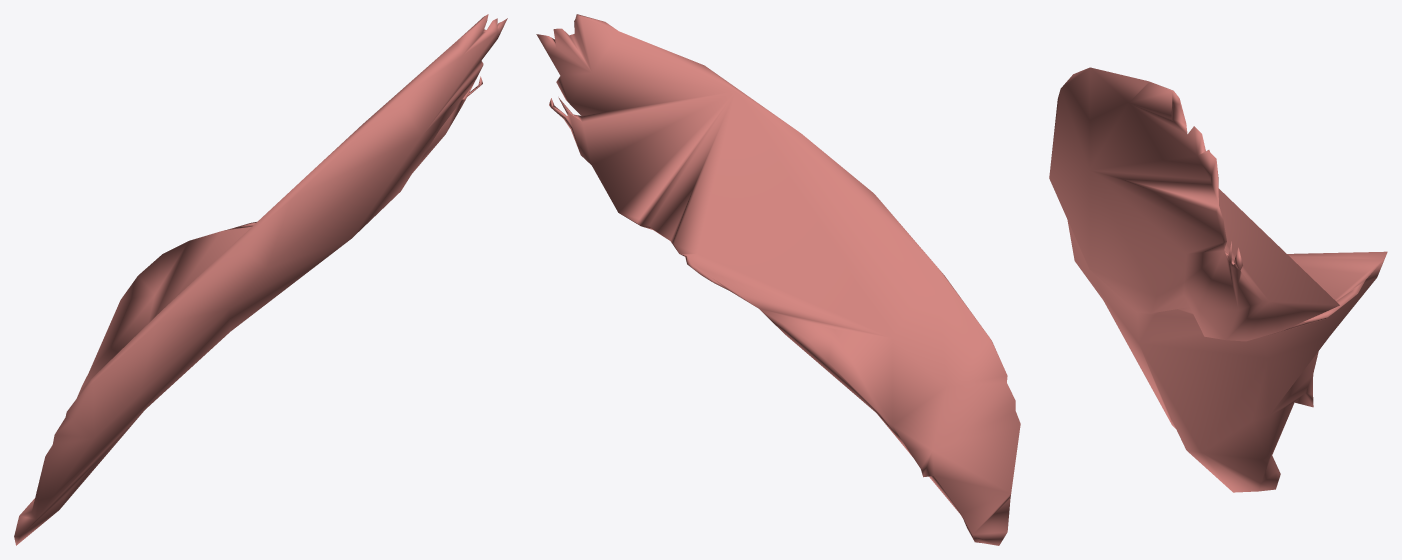
3 views of the same model, side by side, from view 1: azimuth 30°, elevation 25°; view 2: azimuth 150°, elevation 25°; view 3: azimuth 270°, elevation 25° (orthographic). The views are drawn at different scales.
Visible parts, largest first — view 1: ZA_0da69982c4911531; view 2: ZA_0da69982c4911531; view 3: ZA_0da69982c4911531.
Boxes of the visible parts, x1,y1,x2,y2 form: ZA_0da69982c4911531: (14,14,507,545); ZA_0da69982c4911531: (536,14,1020,545); ZA_0da69982c4911531: (1049,67,1387,492).
Bounding box in the file's own units: 0.0227 × 0.019 × 0.00703.
